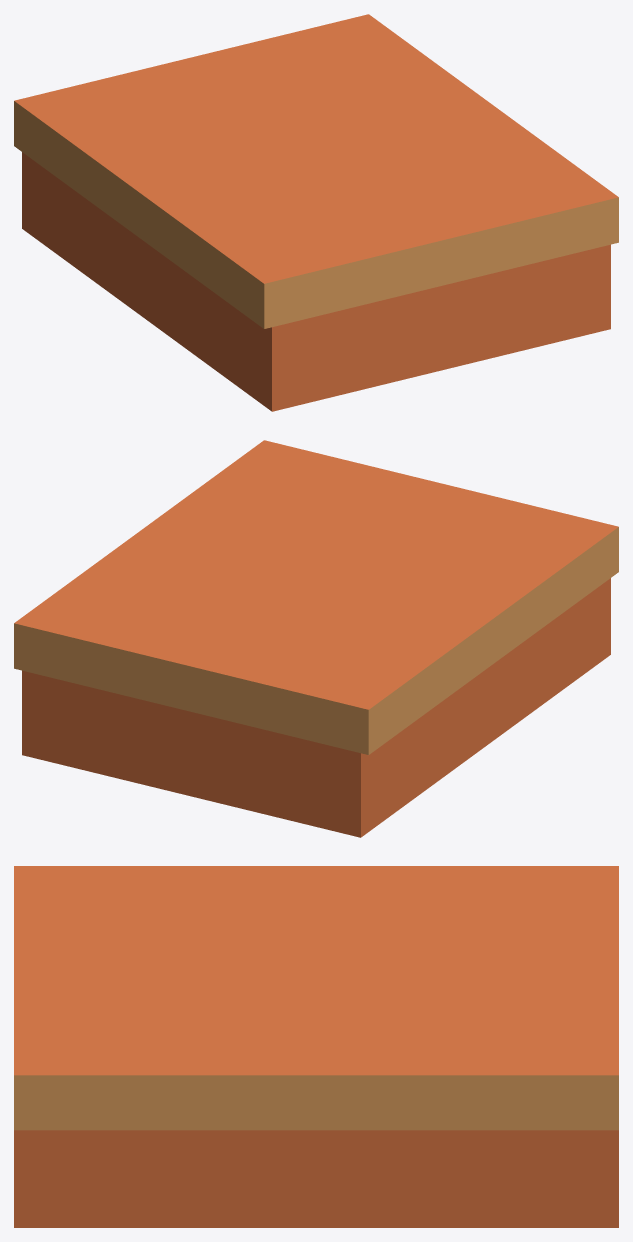
The model's file is C_BlocFace.fbx.
The picture shows the model from 3 angles, top to bottom: view 1: azimuth 30°, elevation 25°; view 2: azimuth 150°, elevation 25°; view 3: azimuth 270°, elevation 25°; orthographic projection. The views are drawn at different scales.
Visible parts, largest first — view 1: C_BlocFace; view 2: C_BlocFace; view 3: C_BlocFace.
Boxes of the visible parts, x1,y1,x2,y2 form: C_BlocFace: (14, 14, 618, 411); C_BlocFace: (14, 440, 618, 837); C_BlocFace: (14, 866, 618, 1227).
Bounding box in the file's own units: 72.56 × 25.38 × 88.63.
